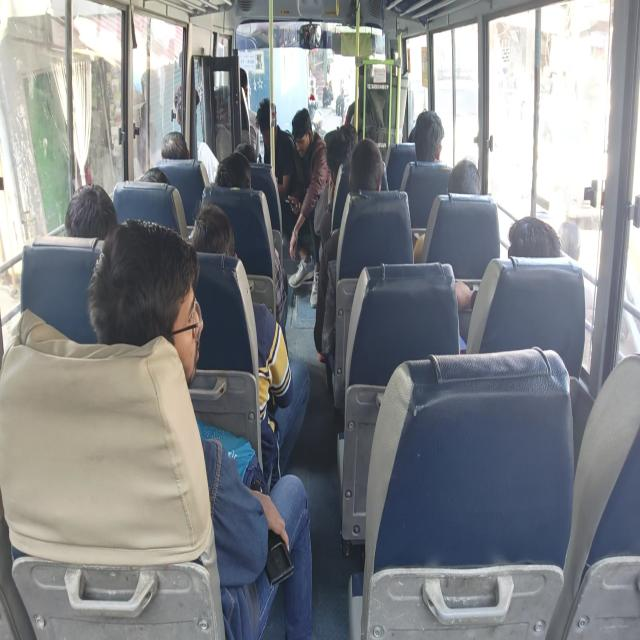person: (134, 260, 213, 366), (514, 229, 564, 271), (194, 218, 237, 263), (79, 187, 115, 240), (214, 157, 252, 206), (139, 162, 169, 211), (448, 166, 488, 199), (353, 153, 383, 196), (414, 118, 442, 164), (162, 131, 192, 167), (291, 116, 315, 156), (362, 52, 387, 90), (329, 131, 351, 170), (178, 85, 203, 118), (234, 144, 260, 167), (231, 71, 248, 101), (261, 106, 276, 138)
